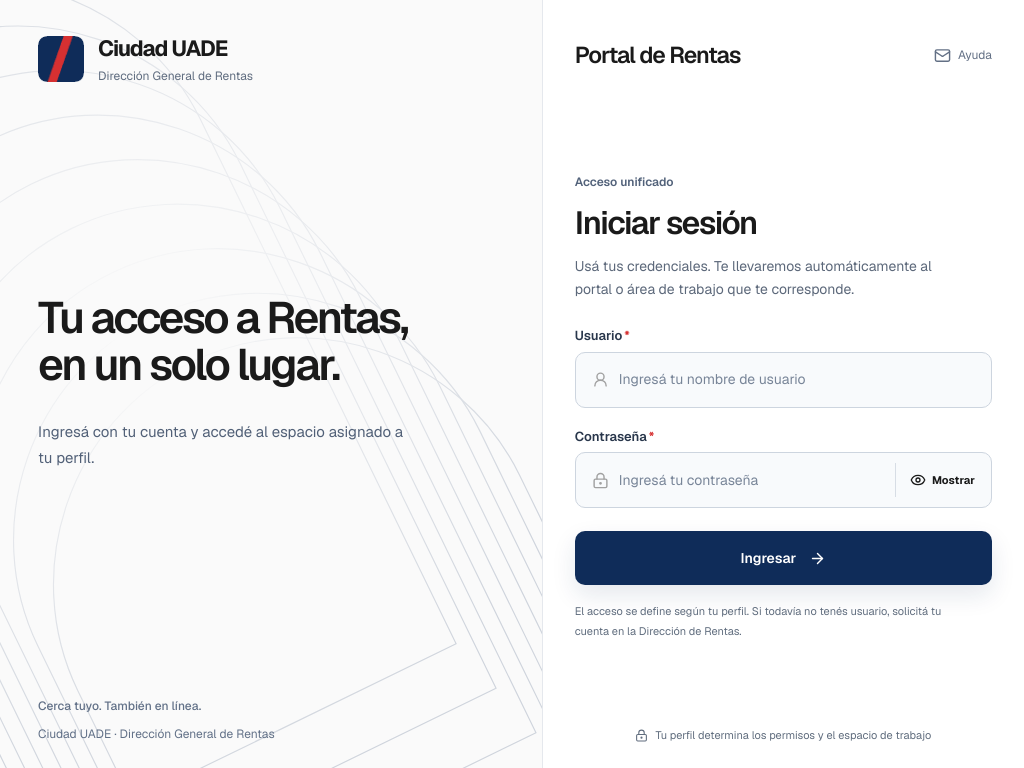
Test: área de auditoría › abre el panel con los módulos de consulta
Type "acastro" into the field labelled "Usuario*" at (797, 380), box [619, 366, 975, 394]
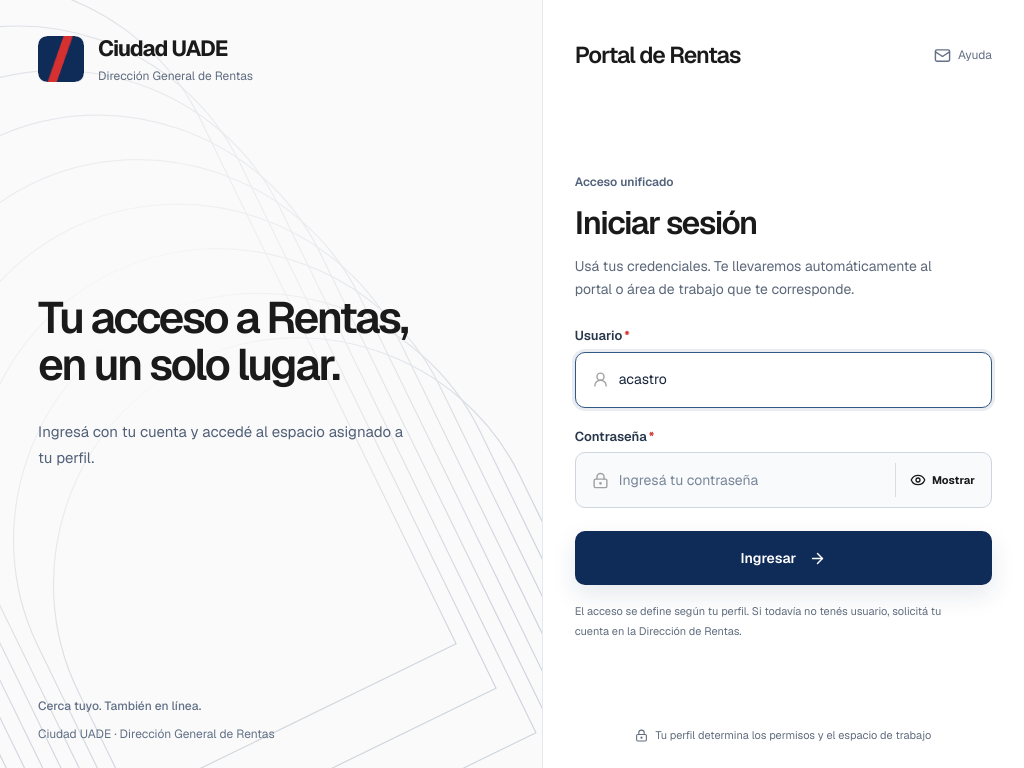
Type "audit123" into the password field labelled "Contraseña*" at (750, 480), box [619, 466, 881, 494]
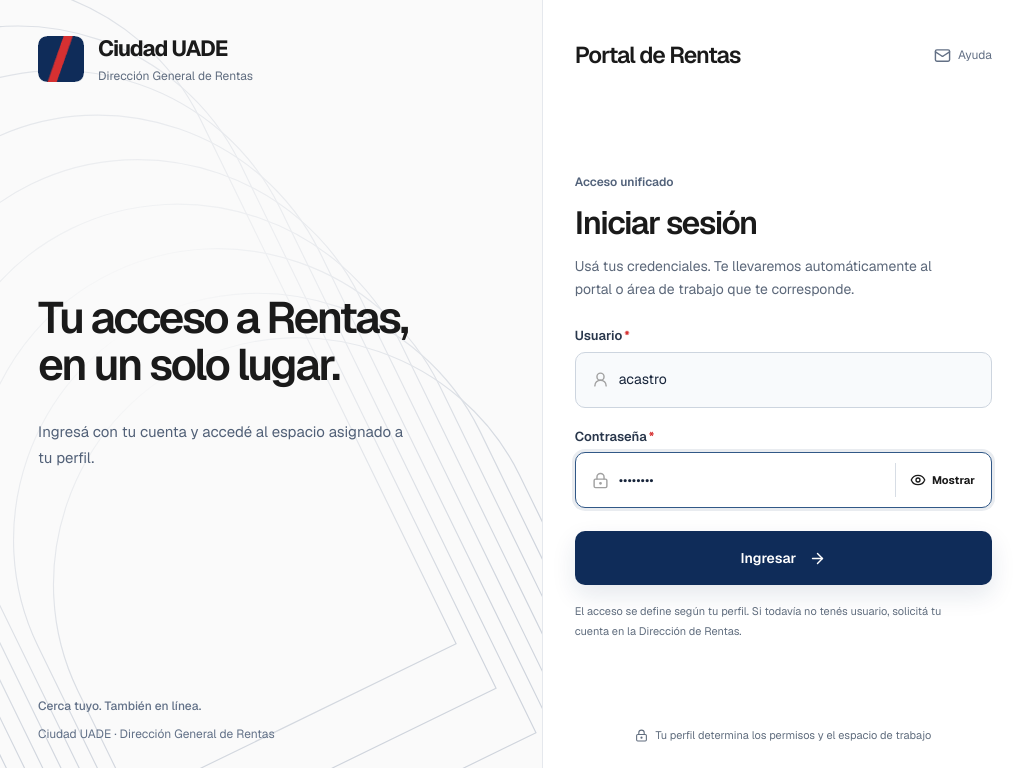
Click the button "Ingresar" at (783, 558), box [575, 531, 992, 585]
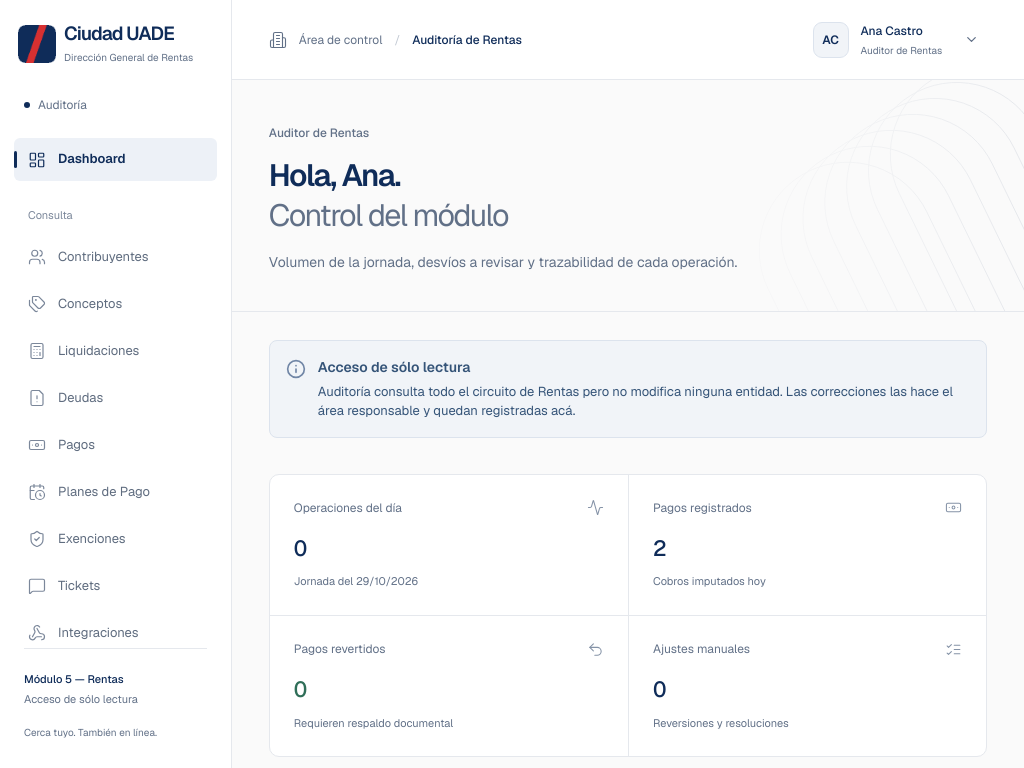
Expected: the heading "Hola, Ana. Control del módulo" is shown, [269, 155, 508, 235]
Expected: the link "Conceptos" is shown, [28, 295, 122, 313]
Expected: the link "Integraciones" is shown, [28, 624, 138, 642]
